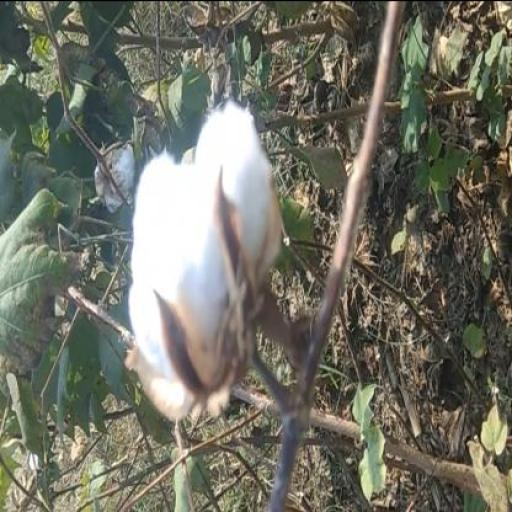cotton_ready: (98, 118, 336, 393)
